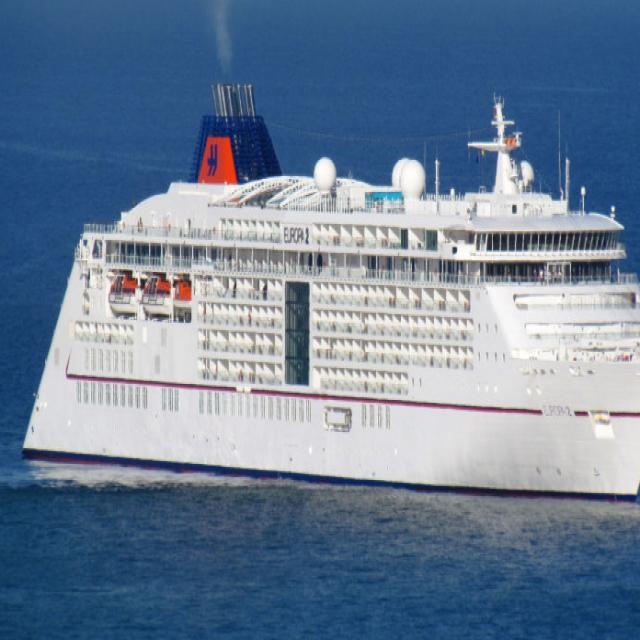cruises: (22, 46, 640, 516)
